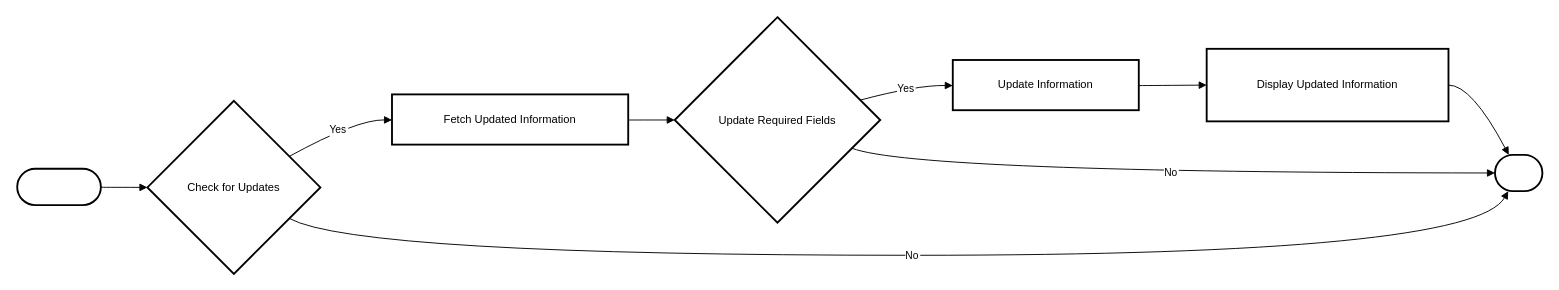
Some shapes in this 1559 by 290 pixel diagram are drawn without their labels. The box of each missing label's shape, as (x1, y1, x2, y2) in pixels:
Database: (16, 167, 101, 206)
End: (1494, 153, 1543, 192)
